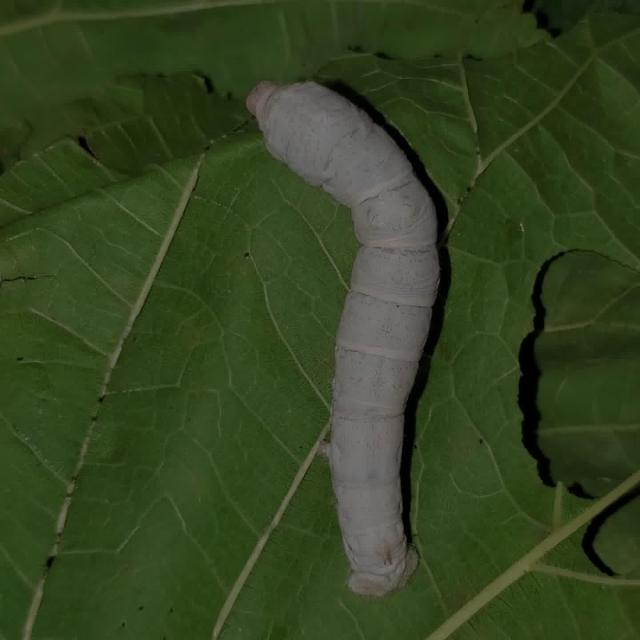Healthy: (228, 48, 470, 604)
